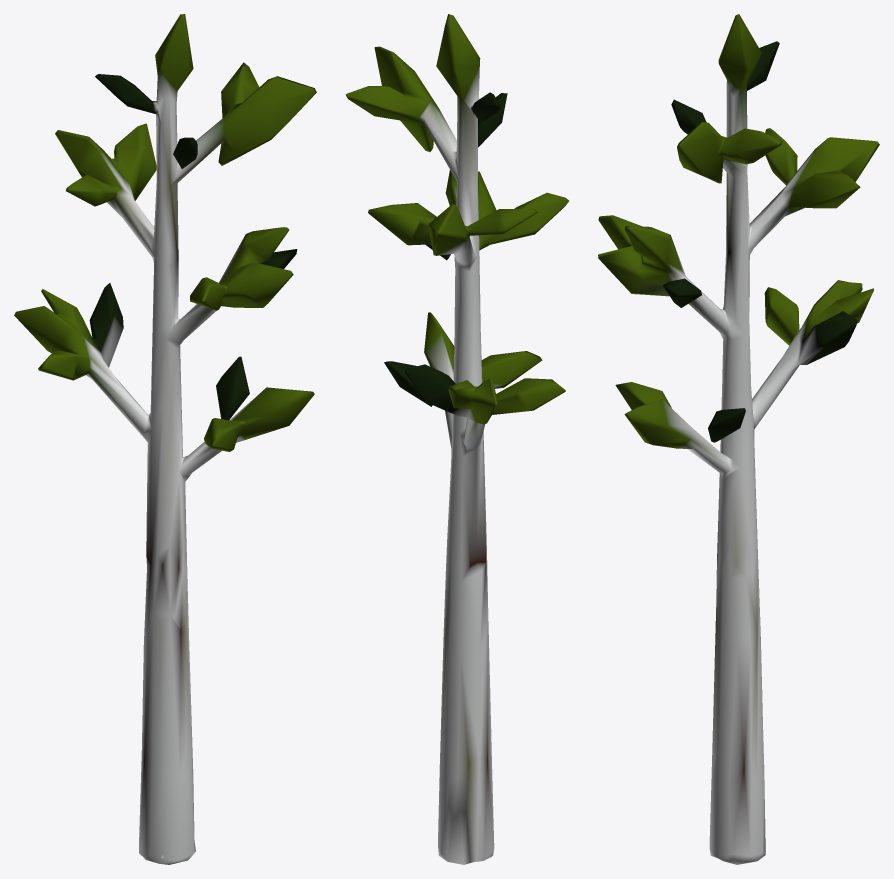
The model's file is gen3d-birch-sapling-lod1.glb.
3 views of the same model, side by side, from view 1: azimuth 30°, elevation 25°; view 2: azimuth 150°, elevation 25°; view 3: azimuth 270°, elevation 25° (orthographic).
Visible parts, largest first — view 1: part_0; view 2: part_0; view 3: part_0.
Boxes of the visible parts, bbox=[...] form: part_0: bbox=[14, 14, 316, 864]; part_0: bbox=[345, 14, 569, 864]; part_0: bbox=[598, 14, 879, 864].
Size of the model in its own units: 0.293 by 0.9975 by 0.3011.
